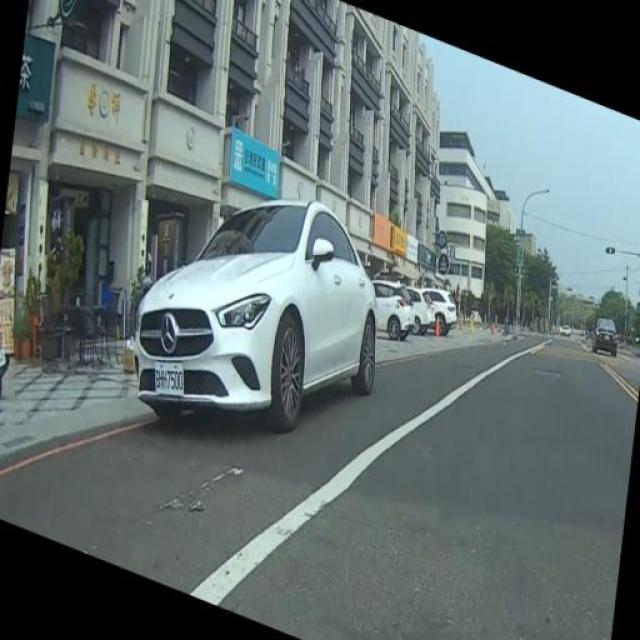Legalparking: (93, 176, 418, 482)
